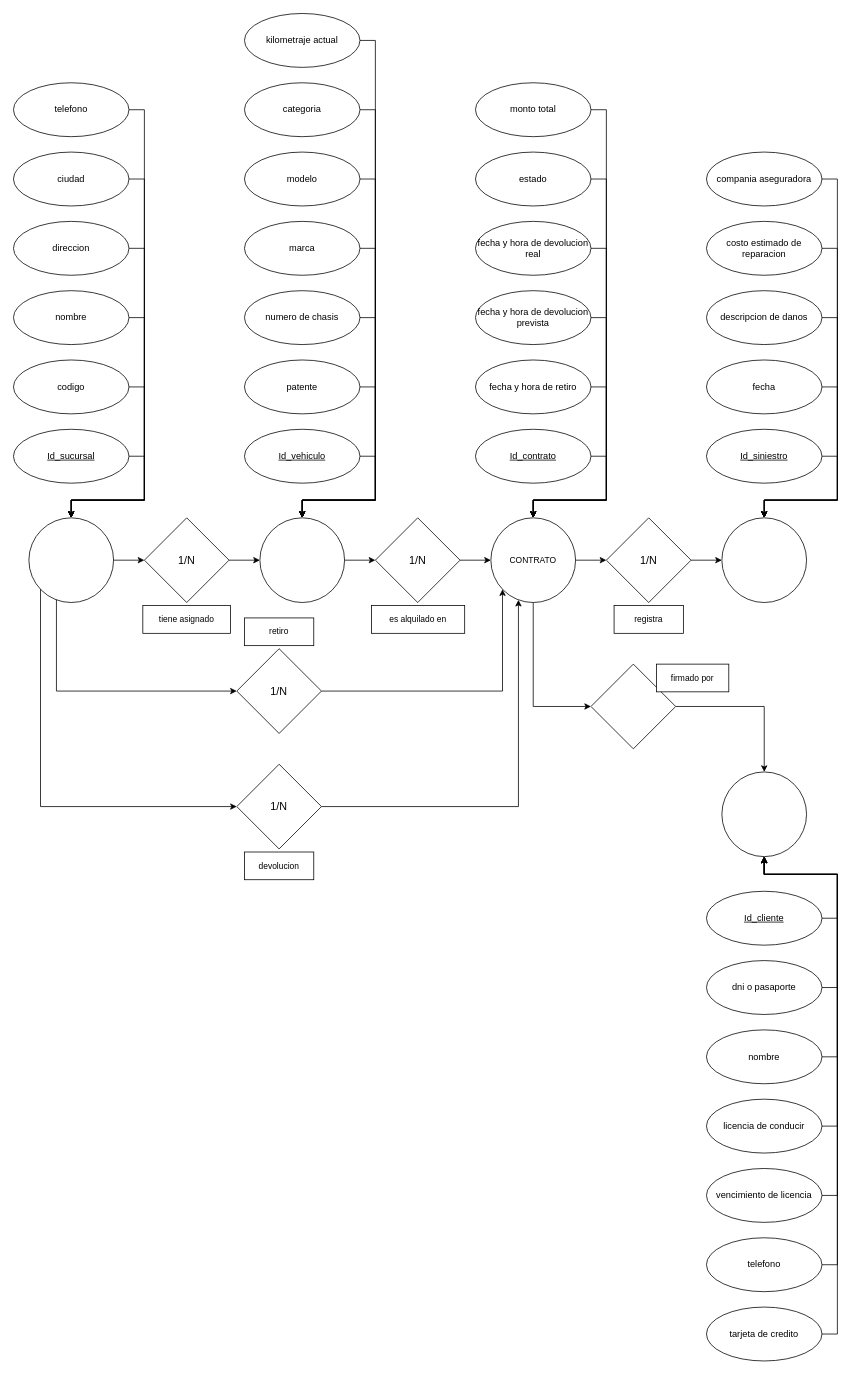
The diagram is 857 pixels wide and 1374 high, and some of its shapes have lost their labels. Each missing label, with the centre of its shape:
CLIENTE: the point at 764,814
N/1: the point at 633,706
SINIESTRO: the point at 764,560
SUCURSAL: the point at 71,560
VEHICULO: the point at 302,560
